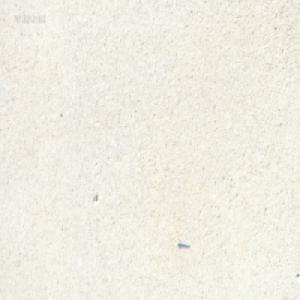Nail: (177, 239, 190, 247)
